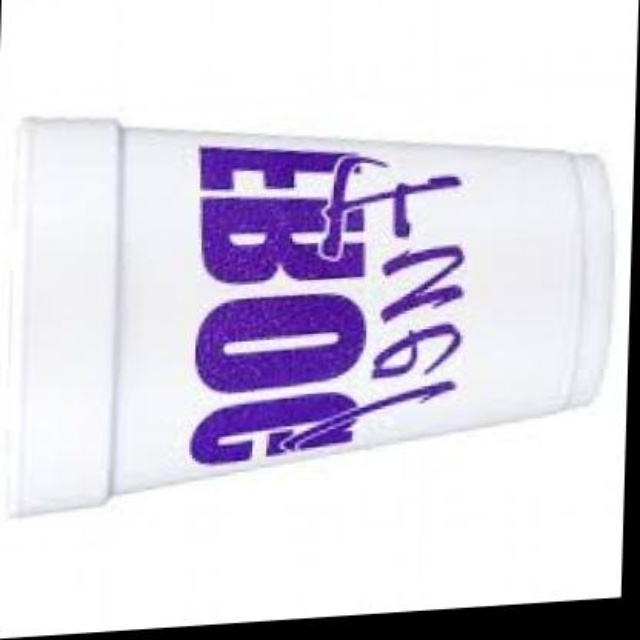trash: (12, 118, 611, 514)
